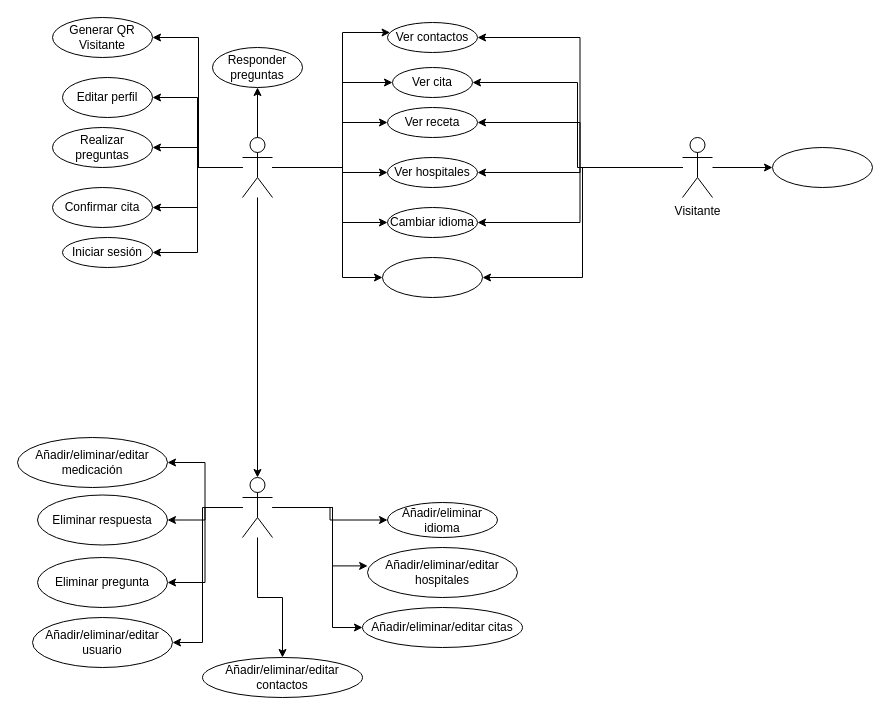
Some shapes in this 890 by 715 pixel diagram are drawn without their labels. Each missing label, with the centre of its shape:
"Administrador" goes at point (257, 507).
"Leer QR" goes at point (822, 167).
"Usuario registrado" goes at point (257, 167).
"Ver medicación" goes at point (432, 277).
